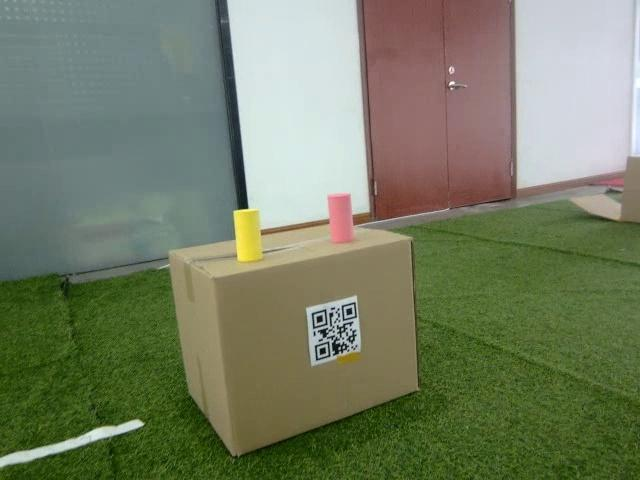red_cylinder: (327, 192, 355, 244)
yellow_cylinder: (230, 208, 265, 265)
